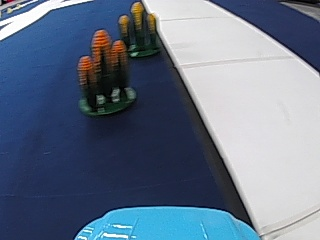corn: (77, 27, 136, 118), (122, 1, 161, 58)
